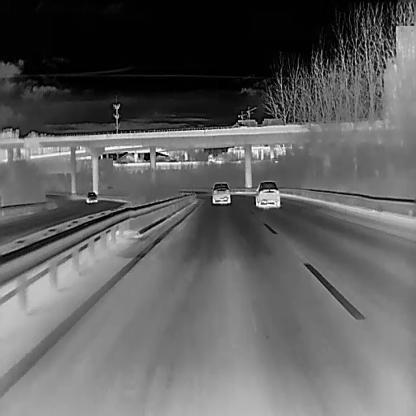car: (254, 181, 280, 207), (211, 182, 231, 203), (85, 191, 98, 202)
